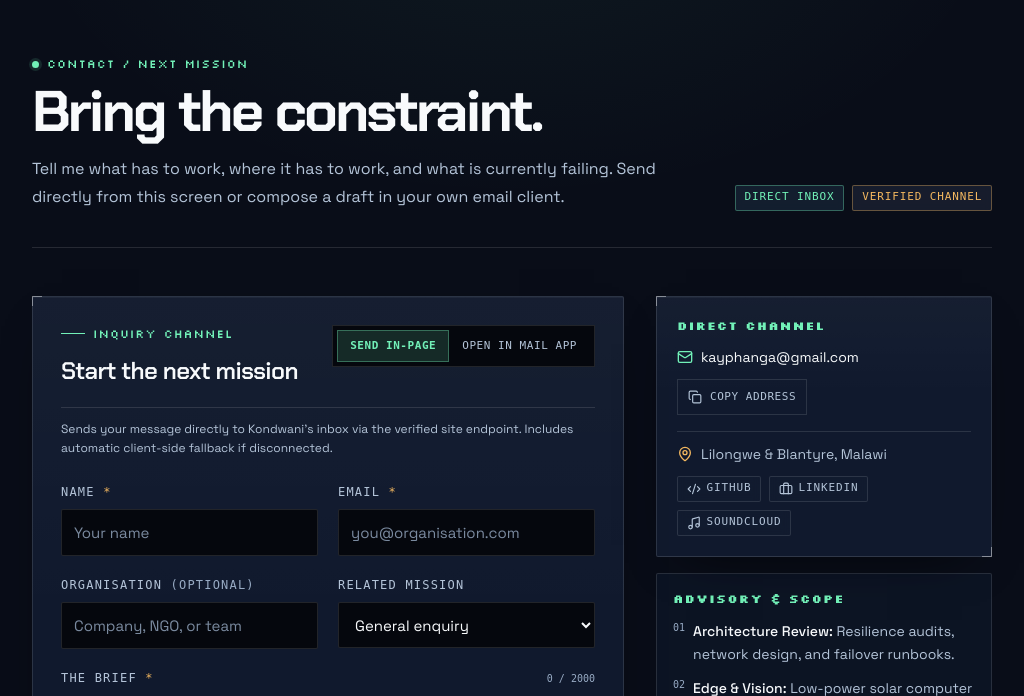
<ContactView /> › handles successful direct server submission with confirmation feedback
Type "David Banda" into the field labelled "Name *" at [190, 533], box x1=61 y1=509 x2=318 y2=556
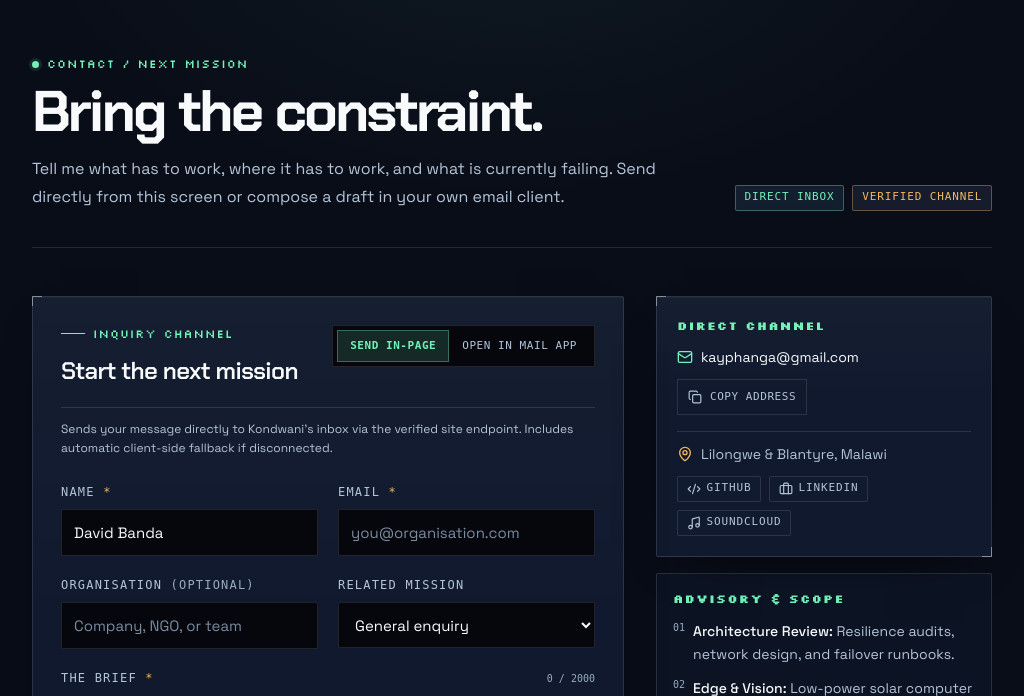
Type "david@enterprise.mw" into the field labelled "Email *" at [466, 533], box x1=338 y1=509 x2=595 y2=556
(page scrolled)
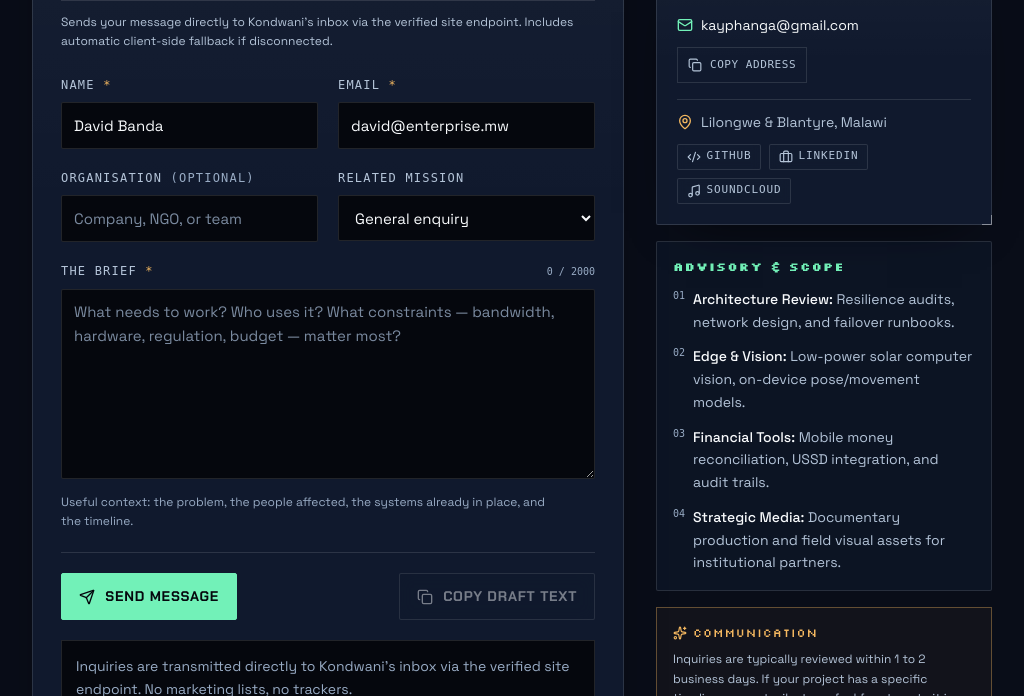
Replace the text in the text box labelled "The brief *" with "Requesting a technical review for our enterprise payment gateway." at [328, 384], box x1=61 y1=289 x2=595 y2=479
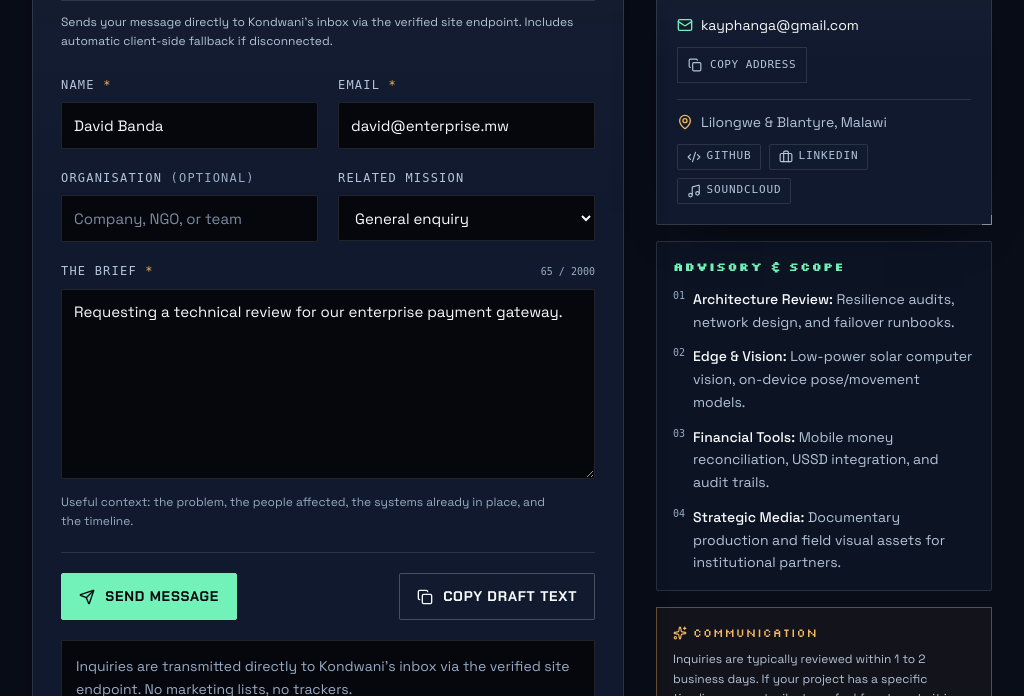
Click the button "Send message" at [149, 597], box x1=61 y1=573 x2=237 y2=620
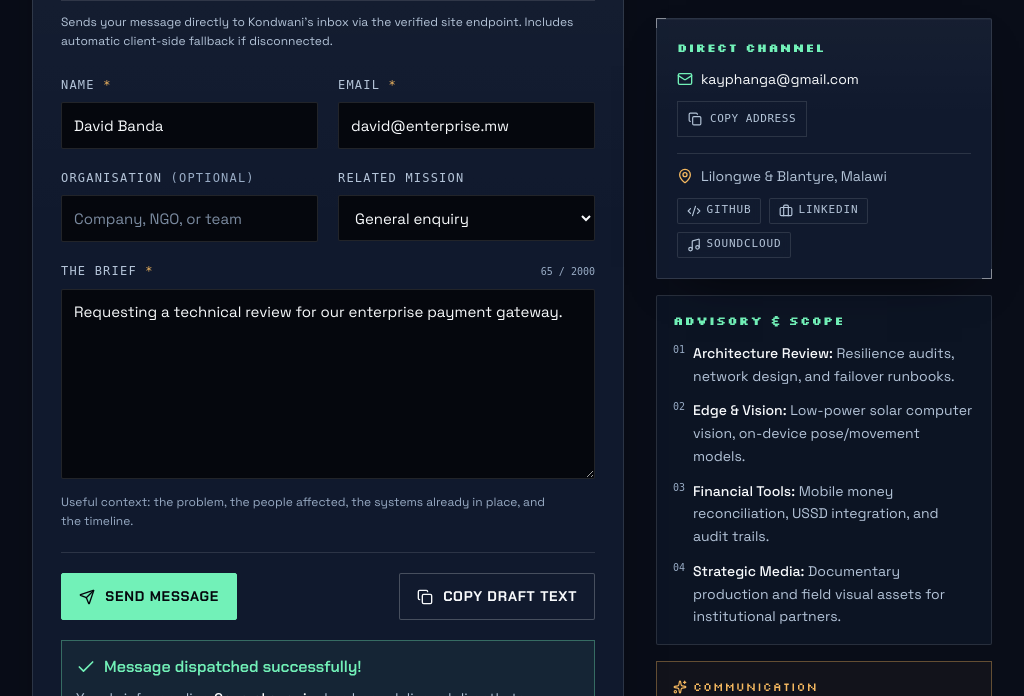
Check: the text "Message dispatched successfully!" is shown, box x1=104 y1=655 x2=362 y2=679
